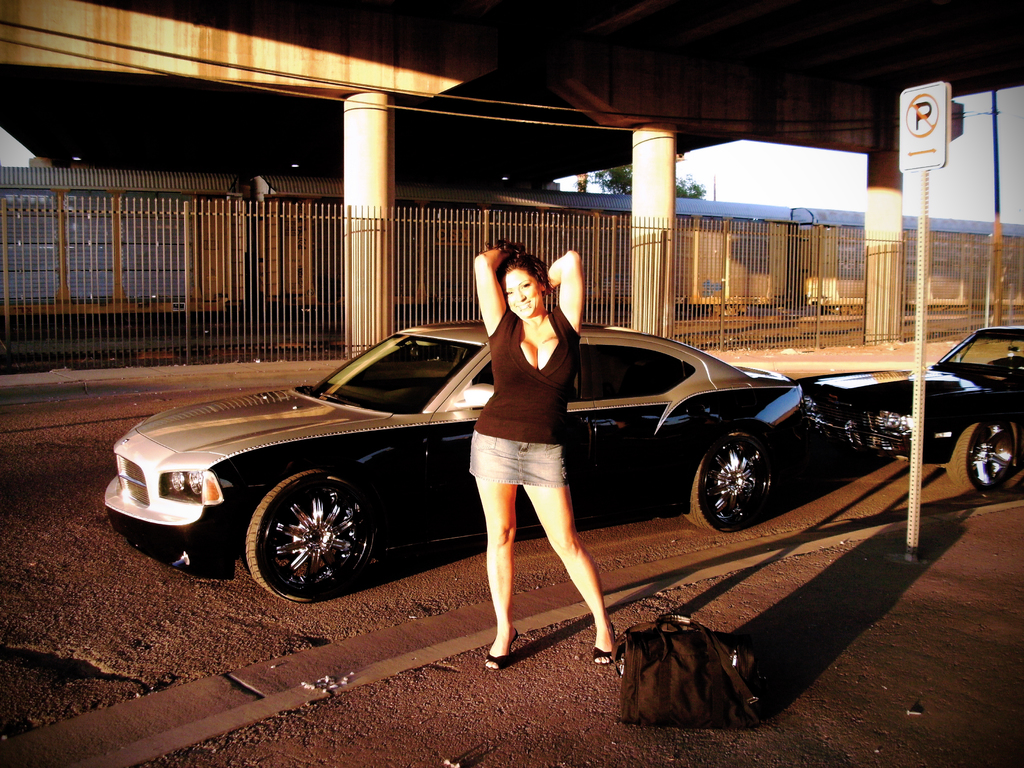cars: (101, 315, 817, 603), (803, 322, 1023, 501)
